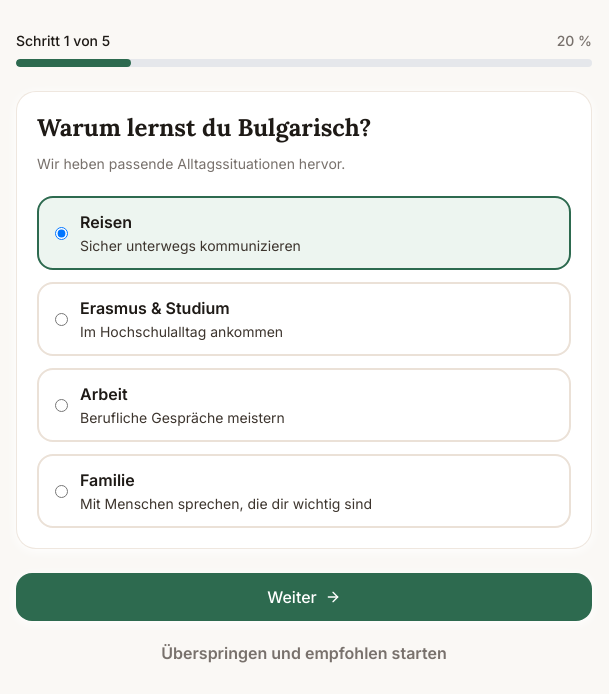
Test: personalized onboarding › offers a skippable safe default path
(page scrolled)
Click the button "Überspringen und empfohlen starten".
click(304, 653)  # box [16,629,592,677]
(page scrolled)
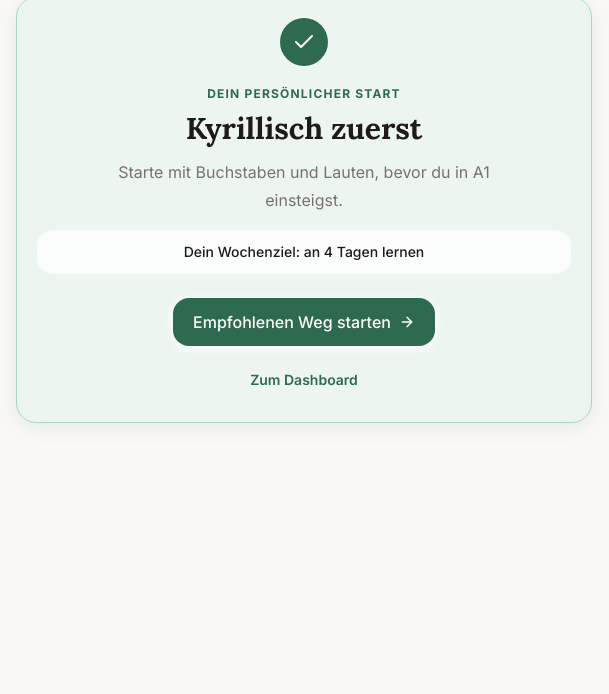
Result: the heading "Kyrillisch zuerst" is shown at [186,109,422,147]
